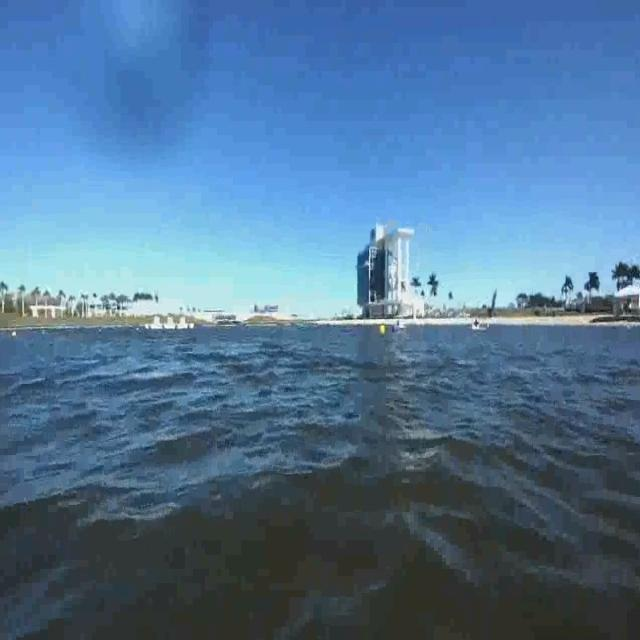yellow-buoy: (379, 322, 388, 337)
